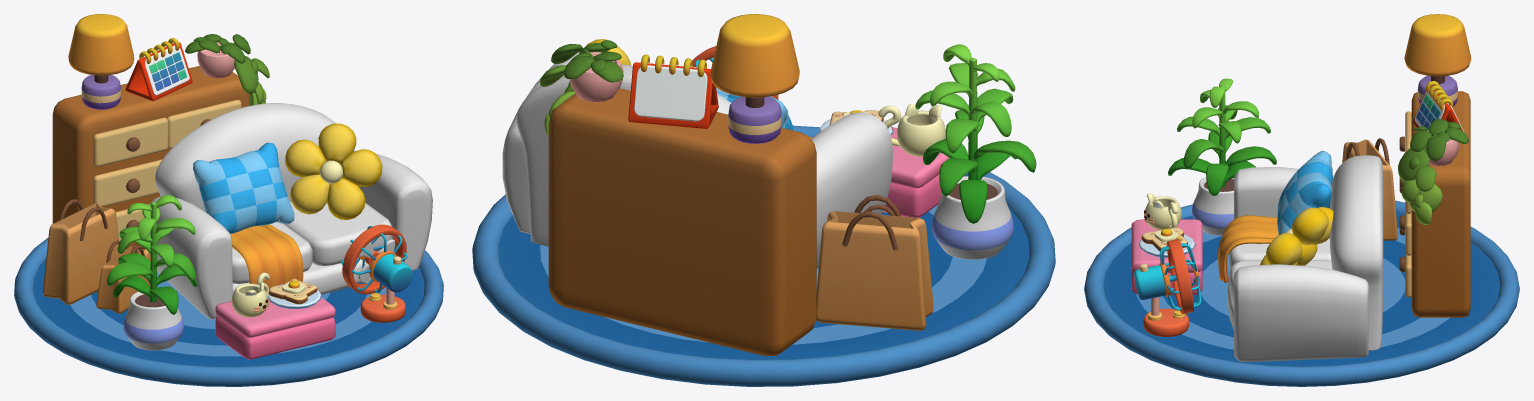
File: Lv3_SofaScene_Root.fbx
3 renders of one model, left to right at view 1: azimuth 30°, elevation 25°; view 2: azimuth 150°, elevation 25°; view 3: azimuth 270°, elevation 25°, orthographic. The views are drawn at different scales.
Parts seen in each view (by area): view 1: SofaScene_Sofa, SofaScene_Rug, SofaScene_Tu, SofaScene_plant_1, SofaScene_Hoa, SofaScene_Goi, SofaScene_Tui_2, SofaScene_Table, SofaScene_Fan, SofaScene_Lamp, SofaScene_Khan, SofaScene_Vine (+4 smaller); view 2: SofaScene_Tu, SofaScene_Rug, SofaScene_Sofa, SofaScene_plant_1, SofaScene_Tui_2, SofaScene_Lamp, SofaScene_Calender, SofaScene_Vine, SofaScene_Table, SofaScene_CatCup; view 3: SofaScene_Rug, SofaScene_Sofa, SofaScene_Tu, SofaScene_plant_1, SofaScene_Fan, SofaScene_Lamp, SofaScene_Vine, SofaScene_Goi, SofaScene_Hoa, SofaScene_Table, SofaScene_Khan, SofaScene_Tui_2 (+3 smaller).
Part boxes in pixels (x1=…): SofaScene_Sofa: x1=149, y1=103, x2=432, y2=319; SofaScene_Rug: x1=14, y1=238, x2=443, y2=386; SofaScene_Tu: x1=52, y1=66, x2=249, y2=249; SofaScene_plant_1: x1=107, y1=195, x2=197, y2=350; SofaScene_Hoa: x1=285, y1=123, x2=382, y2=219; SofaScene_Goi: x1=193, y1=142, x2=294, y2=233; SofaScene_Tui_2: x1=43, y1=199, x2=118, y2=304; SofaScene_Table: x1=215, y1=297, x2=335, y2=359; SofaScene_Fan: x1=341, y1=224, x2=412, y2=322; SofaScene_Lamp: x1=68, y1=14, x2=134, y2=109; SofaScene_Khan: x1=230, y1=224, x2=303, y2=288; SofaScene_Vine: x1=185, y1=34, x2=269, y2=105; SofaScene_Tu: x1=548, y1=88, x2=816, y2=355; SofaScene_Rug: x1=472, y1=125, x2=1055, y2=386; SofaScene_Sofa: x1=502, y1=52, x2=893, y2=268; SofaScene_plant_1: x1=915, y1=44, x2=1036, y2=259; SofaScene_Tui_2: x1=816, y1=195, x2=933, y2=330; SofaScene_Lamp: x1=710, y1=14, x2=799, y2=143; SofaScene_Calender: x1=628, y1=54, x2=718, y2=128; SofaScene_Vine: x1=540, y1=40, x2=623, y2=135; SofaScene_Table: x1=812, y1=127, x2=949, y2=217; SofaScene_CatCup: x1=878, y1=104, x2=945, y2=156; SofaScene_Rug: x1=1084, y1=200, x2=1519, y2=386; SofaScene_Sofa: x1=1227, y1=155, x2=1383, y2=361; SofaScene_Tu: x1=1399, y1=91, x2=1470, y2=317; SofaScene_plant_1: x1=1168, y1=78, x2=1276, y2=235; SofaScene_Fan: x1=1134, y1=239, x2=1201, y2=336; SofaScene_Lamp: x1=1404, y1=14, x2=1471, y2=106; SofaScene_Vine: x1=1398, y1=119, x2=1468, y2=224; SofaScene_Goi: x1=1277, y1=150, x2=1332, y2=235; SofaScene_Hoa: x1=1260, y1=207, x2=1333, y2=265; SofaScene_Table: x1=1131, y1=219, x2=1202, y2=294; SofaScene_Khan: x1=1218, y1=215, x2=1278, y2=282; SofaScene_Tui_2: x1=1342, y1=138, x2=1397, y2=240.
Size of the model in its own units: 447 by 278 by 447.
